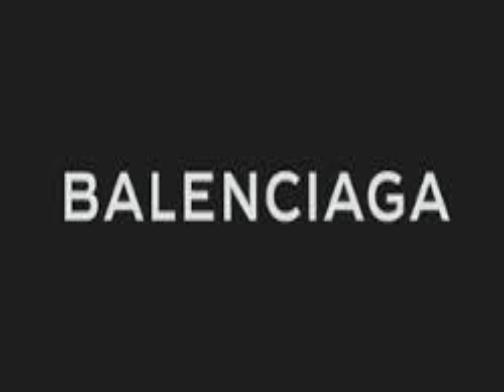BALENCIAGA: (60, 165, 449, 226)
